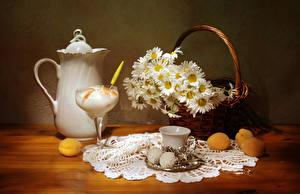chamomile: (141, 78, 166, 98), (151, 60, 166, 76), (183, 87, 196, 105), (195, 96, 209, 112), (144, 97, 162, 109), (170, 68, 185, 82), (185, 72, 200, 84), (193, 83, 206, 96), (146, 49, 162, 59), (168, 48, 179, 62), (162, 81, 174, 93), (155, 74, 167, 85)
